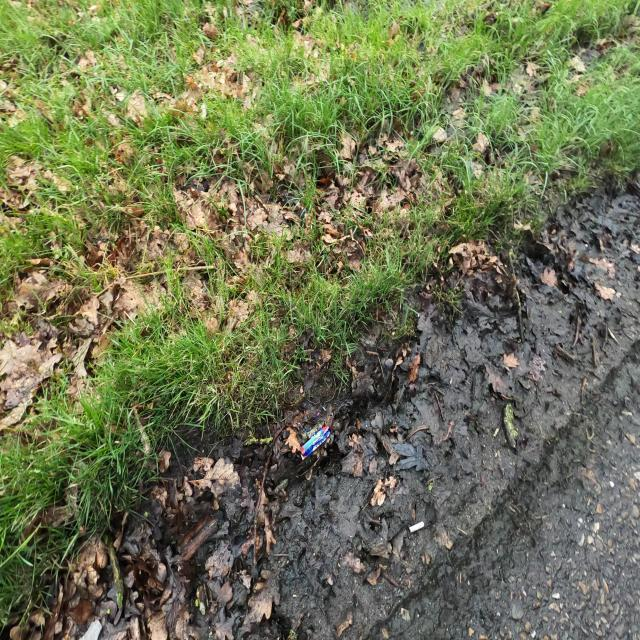Plastic: (299, 426, 331, 460)
